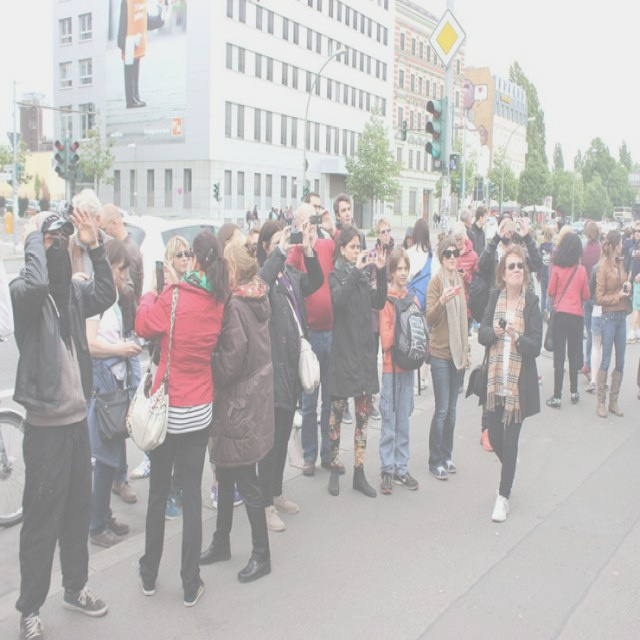pessoa: (1, 204, 120, 638), (132, 228, 230, 607), (190, 236, 275, 584), (461, 242, 546, 524), (66, 185, 140, 506), (256, 218, 327, 534), (323, 223, 391, 502), (84, 236, 143, 550), (376, 243, 432, 496), (284, 201, 342, 434), (425, 233, 473, 481), (96, 202, 144, 408), (542, 229, 592, 412), (593, 226, 634, 420), (404, 216, 443, 397), (116, 0, 170, 109), (476, 208, 544, 292), (583, 236, 615, 392), (367, 215, 397, 358), (449, 220, 482, 338), (579, 220, 603, 378), (544, 223, 576, 316), (332, 190, 369, 266), (534, 224, 557, 326), (624, 218, 640, 346), (213, 222, 263, 258), (0, 239, 14, 344), (301, 185, 327, 239), (163, 233, 190, 280), (512, 210, 545, 246), (244, 201, 294, 223), (470, 204, 490, 258), (549, 210, 573, 242), (619, 224, 634, 271), (400, 224, 416, 250), (458, 207, 472, 229), (432, 208, 442, 228), (636, 354, 640, 402)
